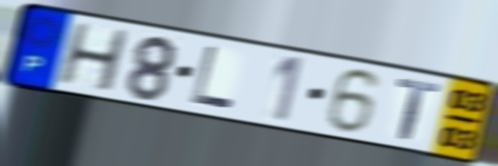1: (268, 53, 305, 124)
6: (323, 67, 384, 136)
8: (123, 33, 179, 102)
H: (53, 21, 131, 95)
L: (189, 43, 237, 113)
T: (395, 76, 442, 143)
